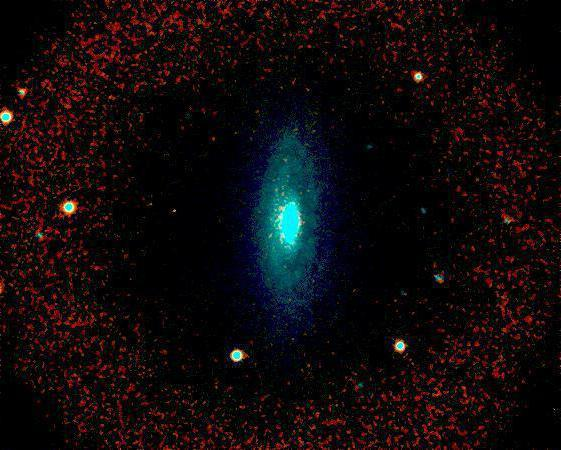star: (160, 197, 190, 227)
